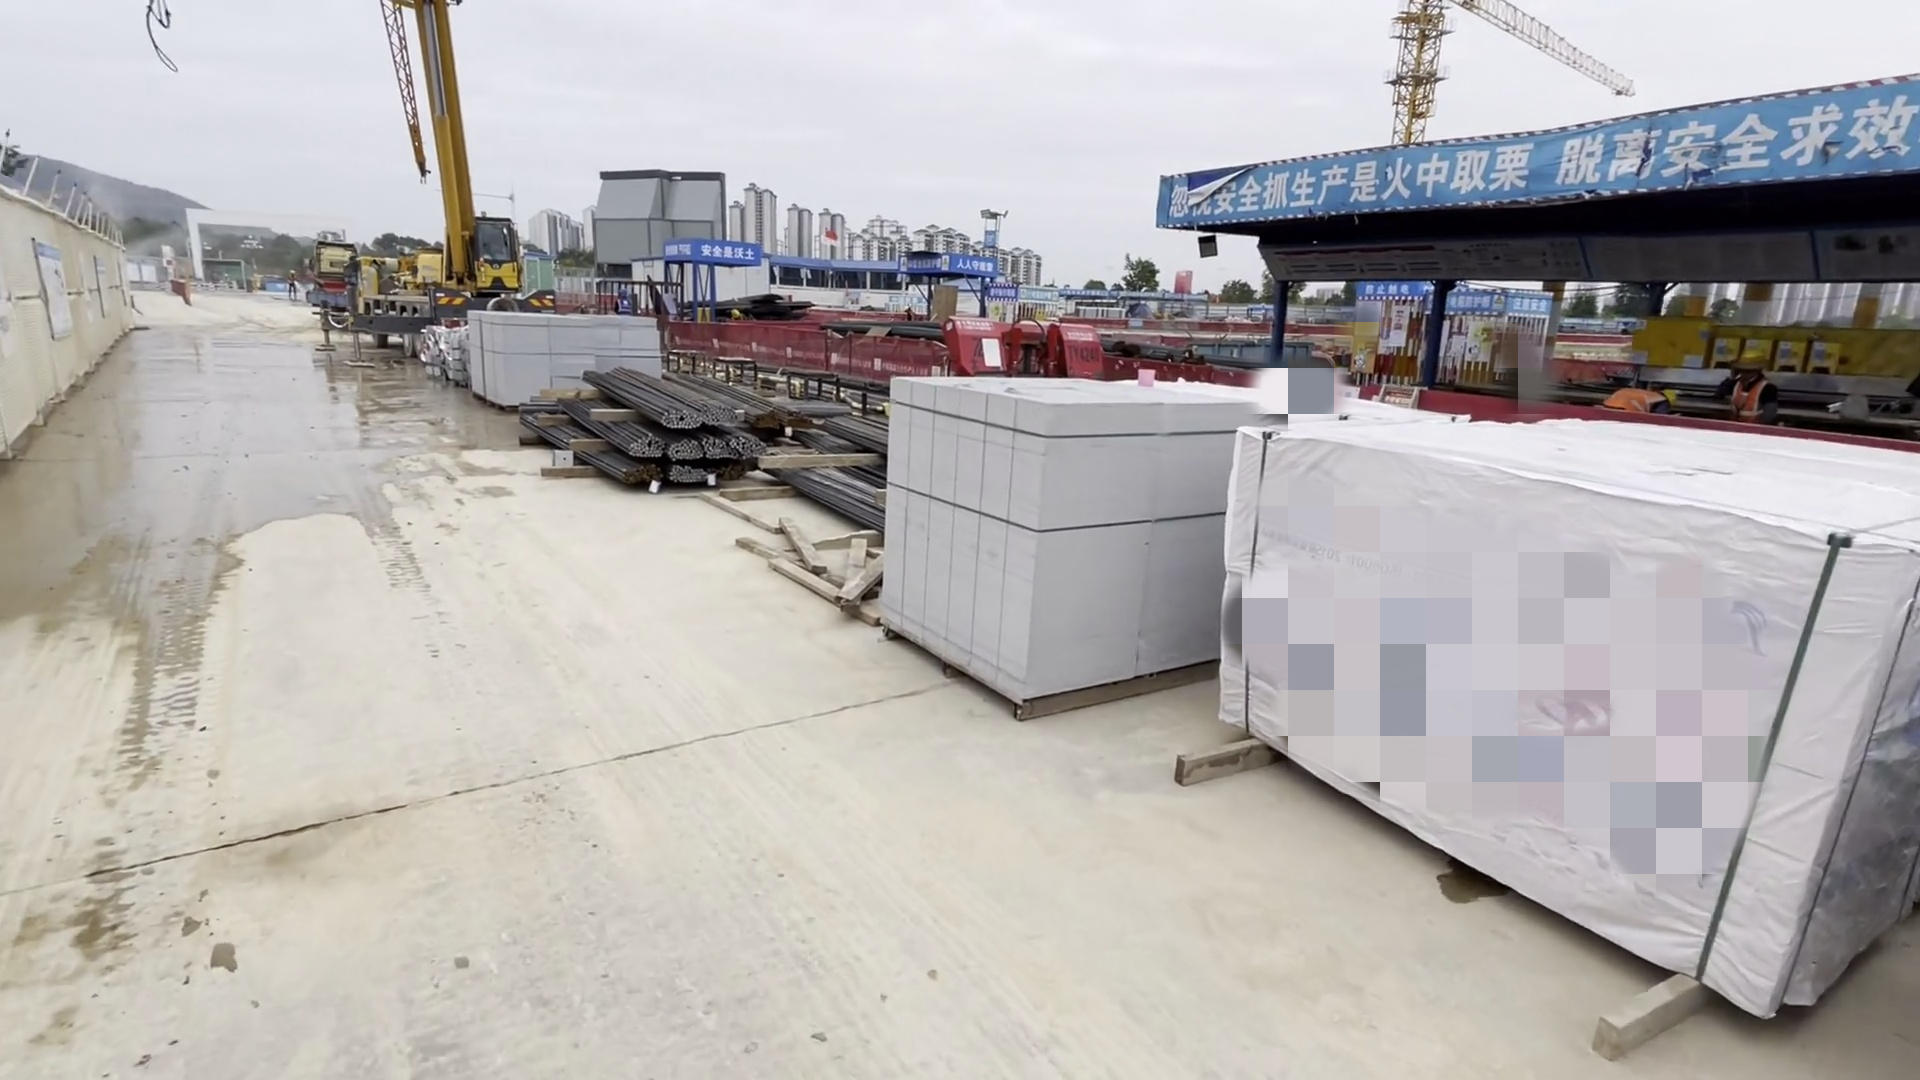brick: (873, 355, 1254, 735), (460, 307, 684, 414)
fence: (675, 306, 975, 412)
helmet: (1736, 343, 1776, 373), (1658, 380, 1680, 407)
person: (1714, 342, 1786, 432), (1592, 380, 1680, 419), (609, 285, 631, 317), (286, 270, 298, 299), (729, 307, 746, 319)
rebar: (532, 355, 773, 507)
slogan: (1147, 118, 1920, 223), (1439, 288, 1557, 322), (1063, 288, 1218, 308), (656, 239, 770, 265), (1341, 275, 1430, 307), (892, 252, 1003, 274), (984, 281, 1053, 304)
vest: (1727, 378, 1766, 424), (1609, 384, 1657, 408)
